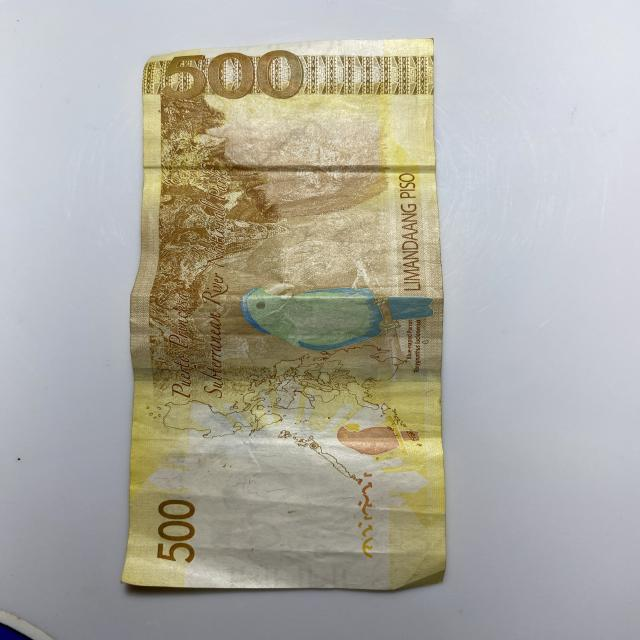500_big_parrot: (235, 280, 437, 354)
500_parrot_watermark: (333, 421, 421, 458)
value_watermark: (276, 540, 334, 562)
